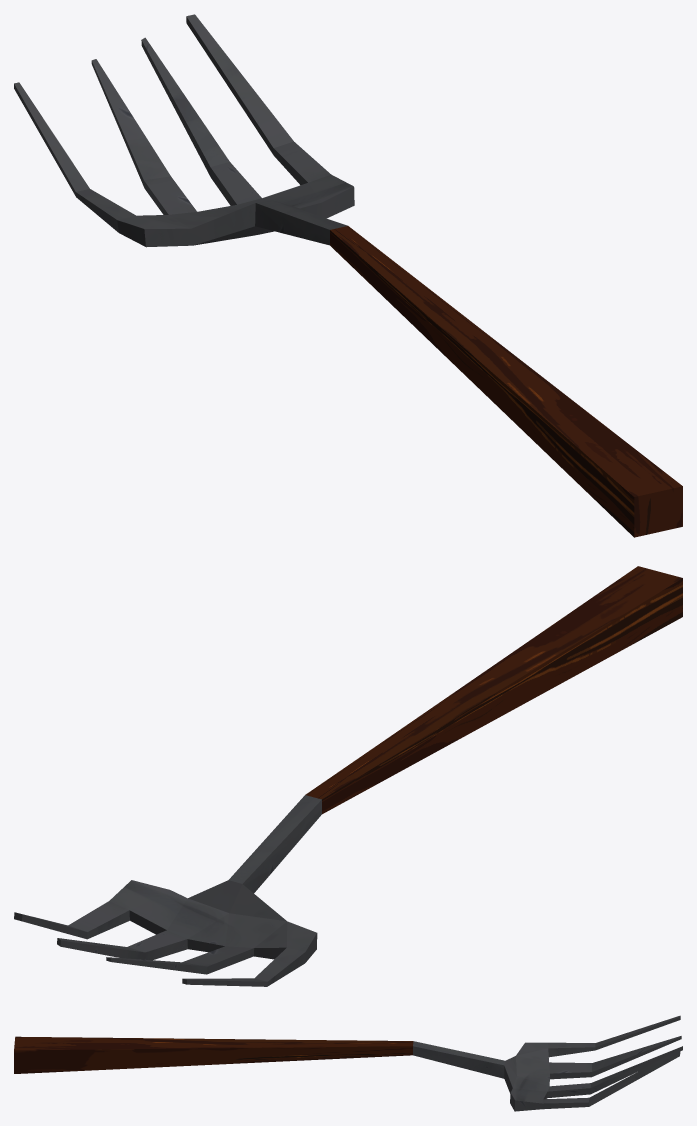
File: SM_PROP_pitchfork.fbx
3 renders of one model, top to bottom at view 1: azimuth 30°, elevation 25°; view 2: azimuth 150°, elevation 25°; view 3: azimuth 270°, elevation 25°, orthographic. The views are drawn at different scales.
Parts seen in each view (by area): view 1: SM_PROP_pitchfork; view 2: SM_PROP_pitchfork; view 3: SM_PROP_pitchfork.
Boxes of the visible parts, <box> form: SM_PROP_pitchfork: <box>14,14,682,537</box>; SM_PROP_pitchfork: <box>14,566,682,986</box>; SM_PROP_pitchfork: <box>14,1015,682,1111</box>.
Bounding box in the file's own units: 37.42 × 17.36 × 174.
